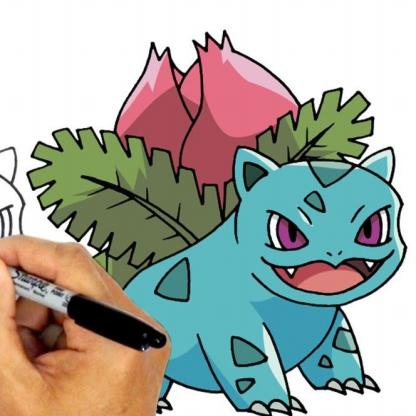Ivysaur: (26, 43, 416, 403)
